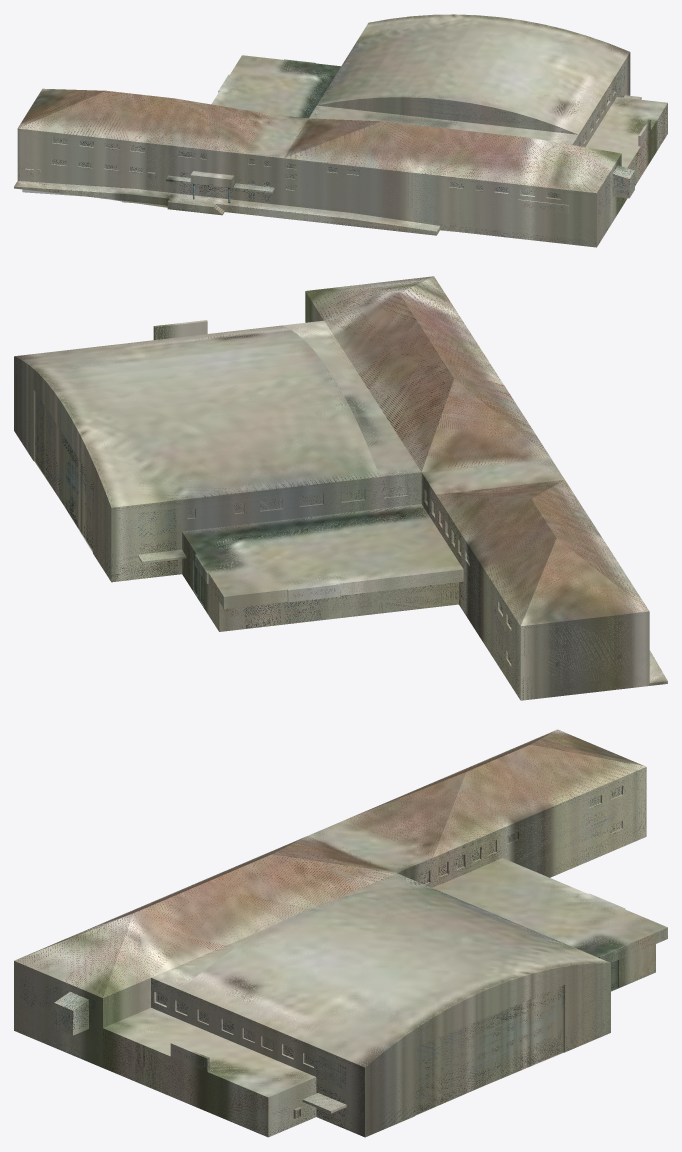
File: coop_tempo.glb
The picture shows the model from 3 angles, top to bottom: view 1: azimuth 30°, elevation 25°; view 2: azimuth 150°, elevation 25°; view 3: azimuth 270°, elevation 25°; orthographic projection. The views are drawn at different scales.
Parts seen in each view (by area): view 1: Google_Earth_Snapshot_2, Google_Earth_Snapshot, RooftilesCeramic0034_1_S_2, DSC02448_64, RooftilesCeramic0034_1_S_1_46, DSC02434_1, DSC02451_18, DSC02453_17, DSC02449, DSC02452, PlasterBare0162_5_S, Google_Earth_Snapshot_1 (+4 smaller); view 2: Google_Earth_Snapshot_2, Google_Earth_Snapshot, RooftilesCeramic0034_1_S_1_46, RooftilesCeramic0034_1_S_1, RooftilesCeramic0034_1_S_2, DSC02425, DSC02434, DSC02431, DSC02423, DSC02430, DSC02427_2, DSC02423_27; view 3: Google_Earth_Snapshot_2, Google_Earth_Snapshot, DSC02434, RooftilesCeramic0034_1_S_1_46, RooftilesCeramic0034_1_S_1, DSC02427_2, DSC02442_28, Google_Earth_Snapshot_1, RooftilesCeramic0034_1_S_1_47, DSC02443_48, DSC02442_14, DSC02439.
Boxes of the visible parts, box(x1,y1,x2,y2) form: Google_Earth_Snapshot_2: box(14, 14, 667, 247); Google_Earth_Snapshot: box(216, 15, 627, 157); RooftilesCeramic0034_1_S_2: box(20, 91, 593, 192); DSC02448_64: box(17, 129, 172, 192); RooftilesCeramic0034_1_S_1_46: box(19, 91, 375, 156); DSC02434_1: box(320, 97, 573, 134); DSC02451_18: box(242, 154, 340, 224); DSC02453_17: box(480, 180, 596, 246); DSC02449: box(166, 146, 244, 214); DSC02452: box(341, 165, 437, 225); PlasterBare0162_5_S: box(15, 181, 440, 233); Google_Earth_Snapshot_1: box(589, 97, 666, 166); Google_Earth_Snapshot_2: box(14, 276, 667, 700); Google_Earth_Snapshot: box(17, 321, 562, 595); RooftilesCeramic0034_1_S_1_46: box(427, 380, 646, 625); RooftilesCeramic0034_1_S_1: box(307, 291, 452, 470); RooftilesCeramic0034_1_S_2: box(400, 277, 646, 607); DSC02425: box(520, 613, 649, 699); DSC02434: box(14, 358, 111, 579); DSC02431: box(182, 473, 421, 530); DSC02423: box(219, 583, 458, 628); DSC02430: box(111, 501, 181, 582); DSC02427_2: box(459, 542, 520, 696); DSC02423_27: box(224, 570, 463, 607); Google_Earth_Snapshot_2: box(14, 729, 667, 1137); Google_Earth_Snapshot: box(159, 821, 666, 1067); DSC02434: box(365, 963, 610, 1133); RooftilesCeramic0034_1_S_1_46: box(274, 730, 642, 869); RooftilesCeramic0034_1_S_1: box(106, 855, 395, 994); DSC02427_2: box(502, 768, 646, 877); DSC02442_28: box(103, 1030, 268, 1135); Google_Earth_Snapshot_1: box(106, 1008, 312, 1096); RooftilesCeramic0034_1_S_1_47: box(15, 917, 129, 996); DSC02443_48: box(14, 961, 102, 1064); DSC02442_14: box(151, 978, 316, 1075); DSC02439: box(316, 1048, 364, 1134).
Size of the model in its own units: 92.46 by 13.55 by 74.41.
180 materials, 179 textured.
